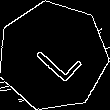L_NW: (24, 28, 82, 84)
